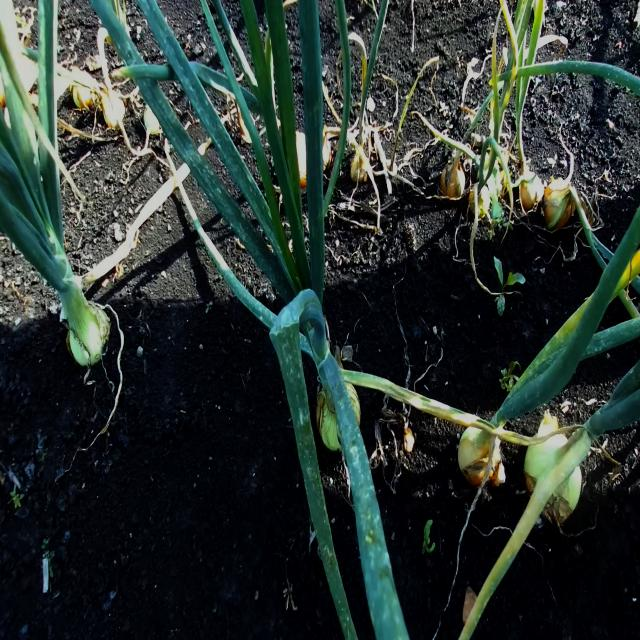onion: (523, 430, 584, 526), (316, 380, 361, 453), (542, 135, 575, 232), (458, 422, 505, 489), (439, 157, 466, 200), (519, 171, 544, 213)
